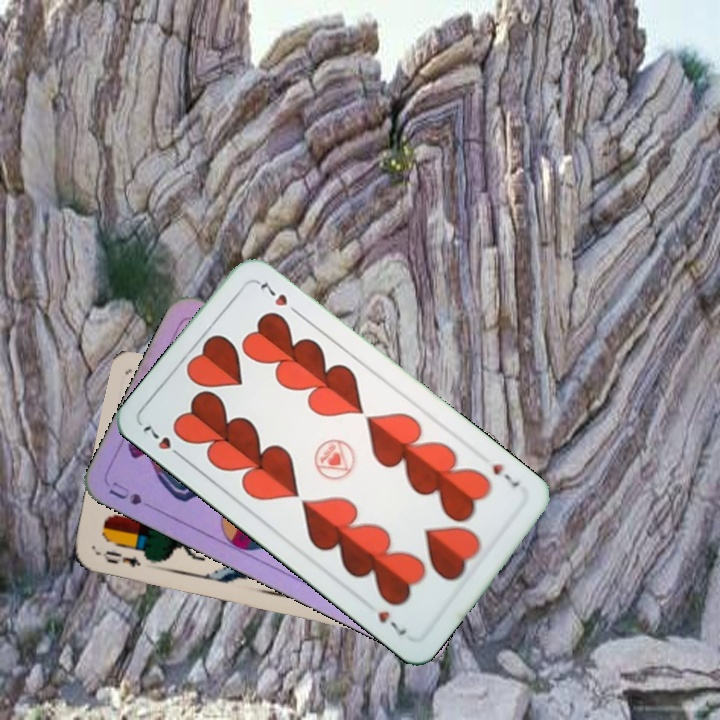EO: (92, 546, 143, 571)
H7: (138, 421, 188, 463), (488, 459, 522, 491)
SU: (104, 477, 161, 514)
